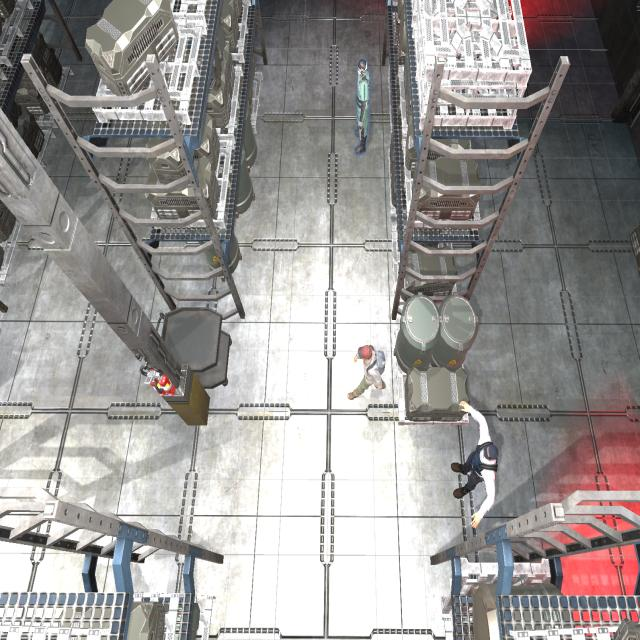thiefs: (344, 342, 390, 404)
